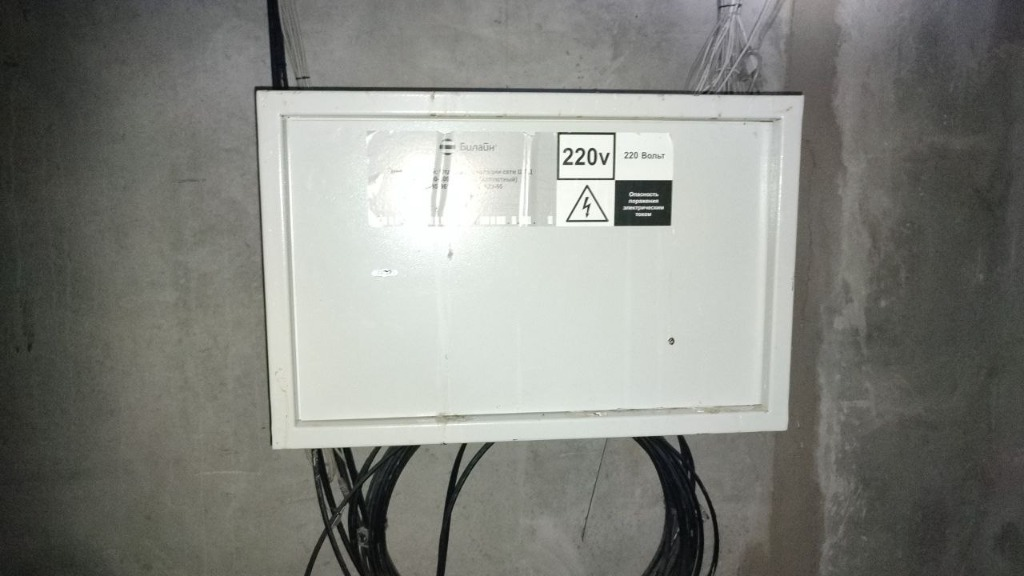shta-7m: (249, 83, 810, 450)
